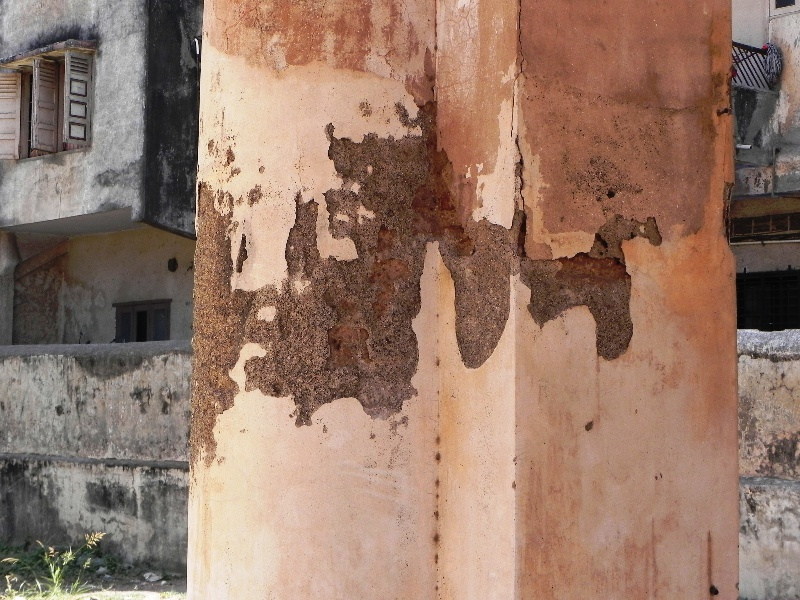Spalling: (188, 90, 438, 472), (515, 195, 674, 369), (441, 130, 512, 372)
